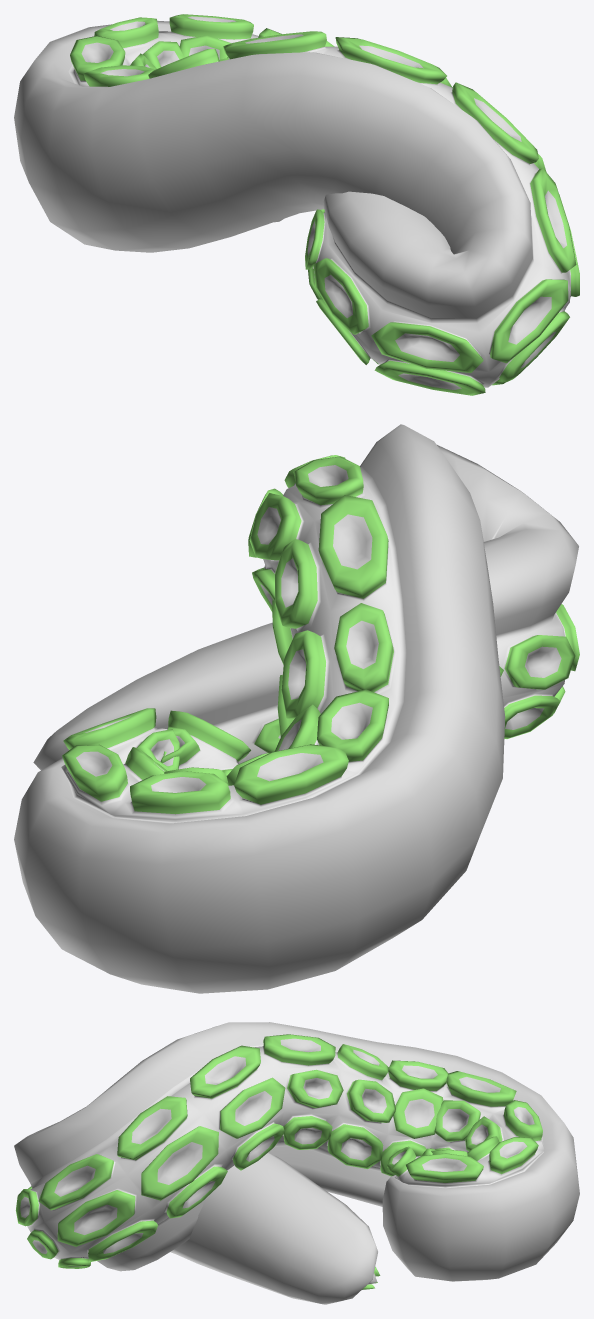
File: Tentacle_Mid04.fbx
The picture shows the model from 3 angles, top to bottom: view 1: azimuth 30°, elevation 25°; view 2: azimuth 150°, elevation 25°; view 3: azimuth 270°, elevation 25°; orthographic projection. The views are drawn at different scales.
Visible parts, largest first — view 1: TentacleCurve_Mid04.001; view 2: TentacleCurve_Mid04.001; view 3: TentacleCurve_Mid04.001.
Part boxes in pixels (box(x1,y1,x2,y2)): TentacleCurve_Mid04.001: box(14, 14, 579, 395); TentacleCurve_Mid04.001: box(14, 424, 579, 993); TentacleCurve_Mid04.001: box(14, 1022, 579, 1304).
Size of the model in its own units: 396 by 287 by 655.
